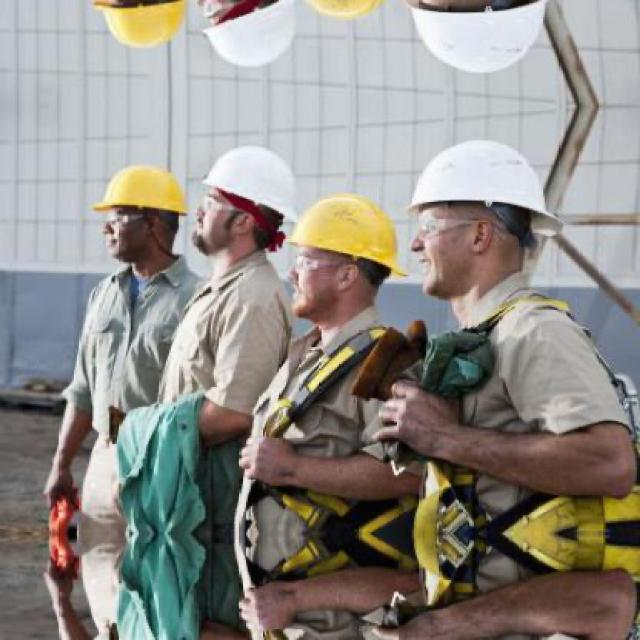con casco: (400, 122, 589, 368), (53, 133, 201, 309), (160, 148, 312, 301), (282, 202, 419, 359)
